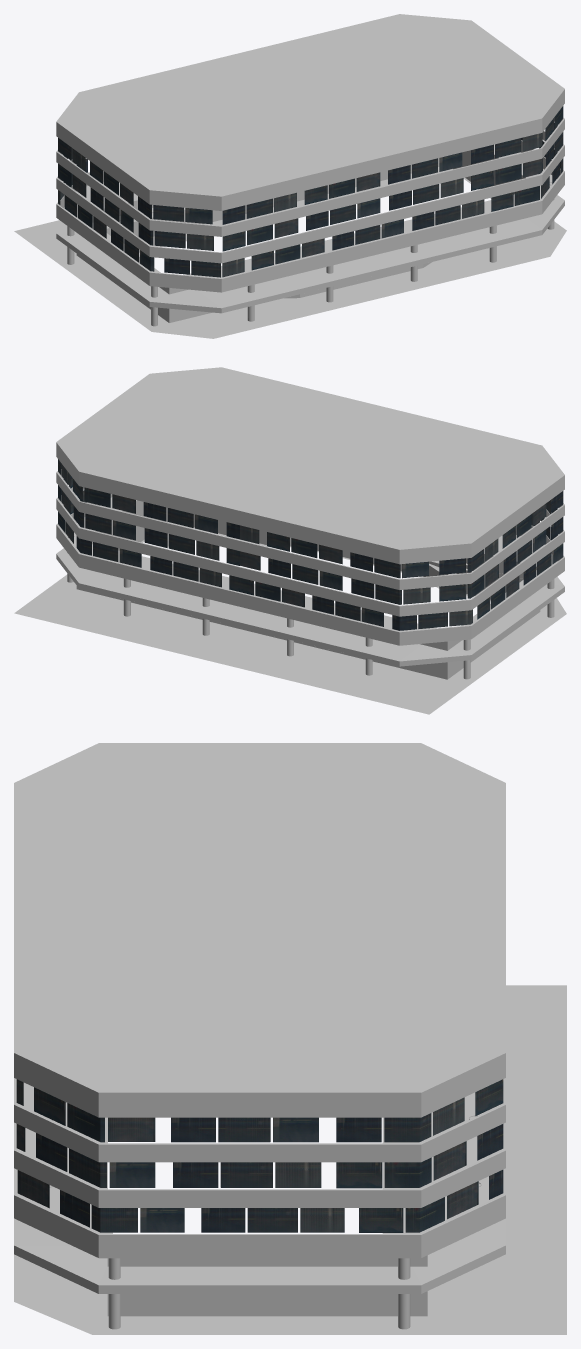
3 views of the same model, one above another, from view 1: azimuth 30°, elevation 25°; view 2: azimuth 150°, elevation 25°; view 3: azimuth 270°, elevation 25° (orthographic). The views are drawn at different scales.
Visible parts, largest first — view 1: DC-06; view 2: DC-06; view 3: DC-06.
Boxes of the visible parts, x1,y1,x2,y2 form: DC-06: (14, 14, 566, 338); DC-06: (14, 367, 566, 714); DC-06: (14, 743, 566, 1334).
Size of what is drawn, in the model's own units: 72 by 23.24 by 48.12.
